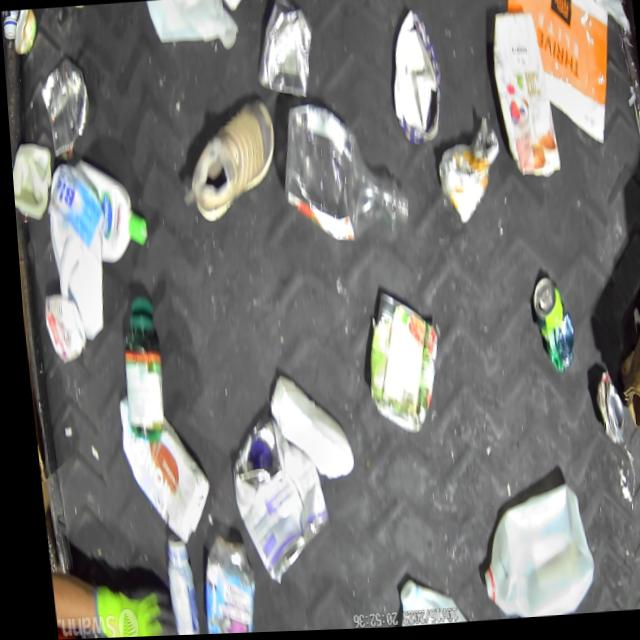can: (218, 412, 326, 590), (354, 290, 442, 440), (249, 0, 317, 103), (37, 58, 92, 159), (525, 279, 572, 378), (585, 374, 619, 450)
milk_jug: (467, 488, 590, 623), (40, 160, 113, 344), (144, 0, 240, 58), (384, 576, 463, 629)
